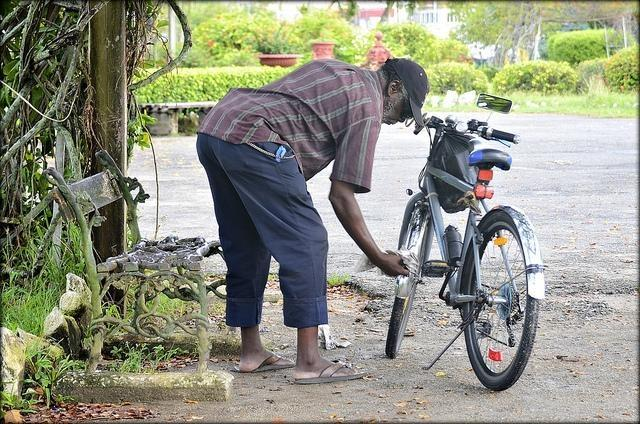bicycle: (380, 91, 547, 384)
